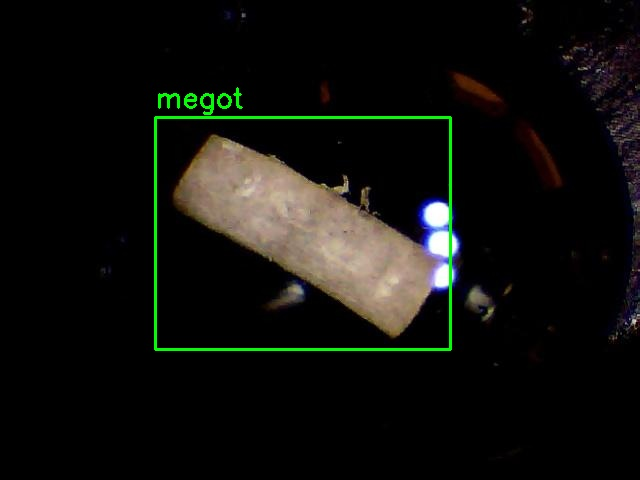megot: (155, 117, 450, 349)
